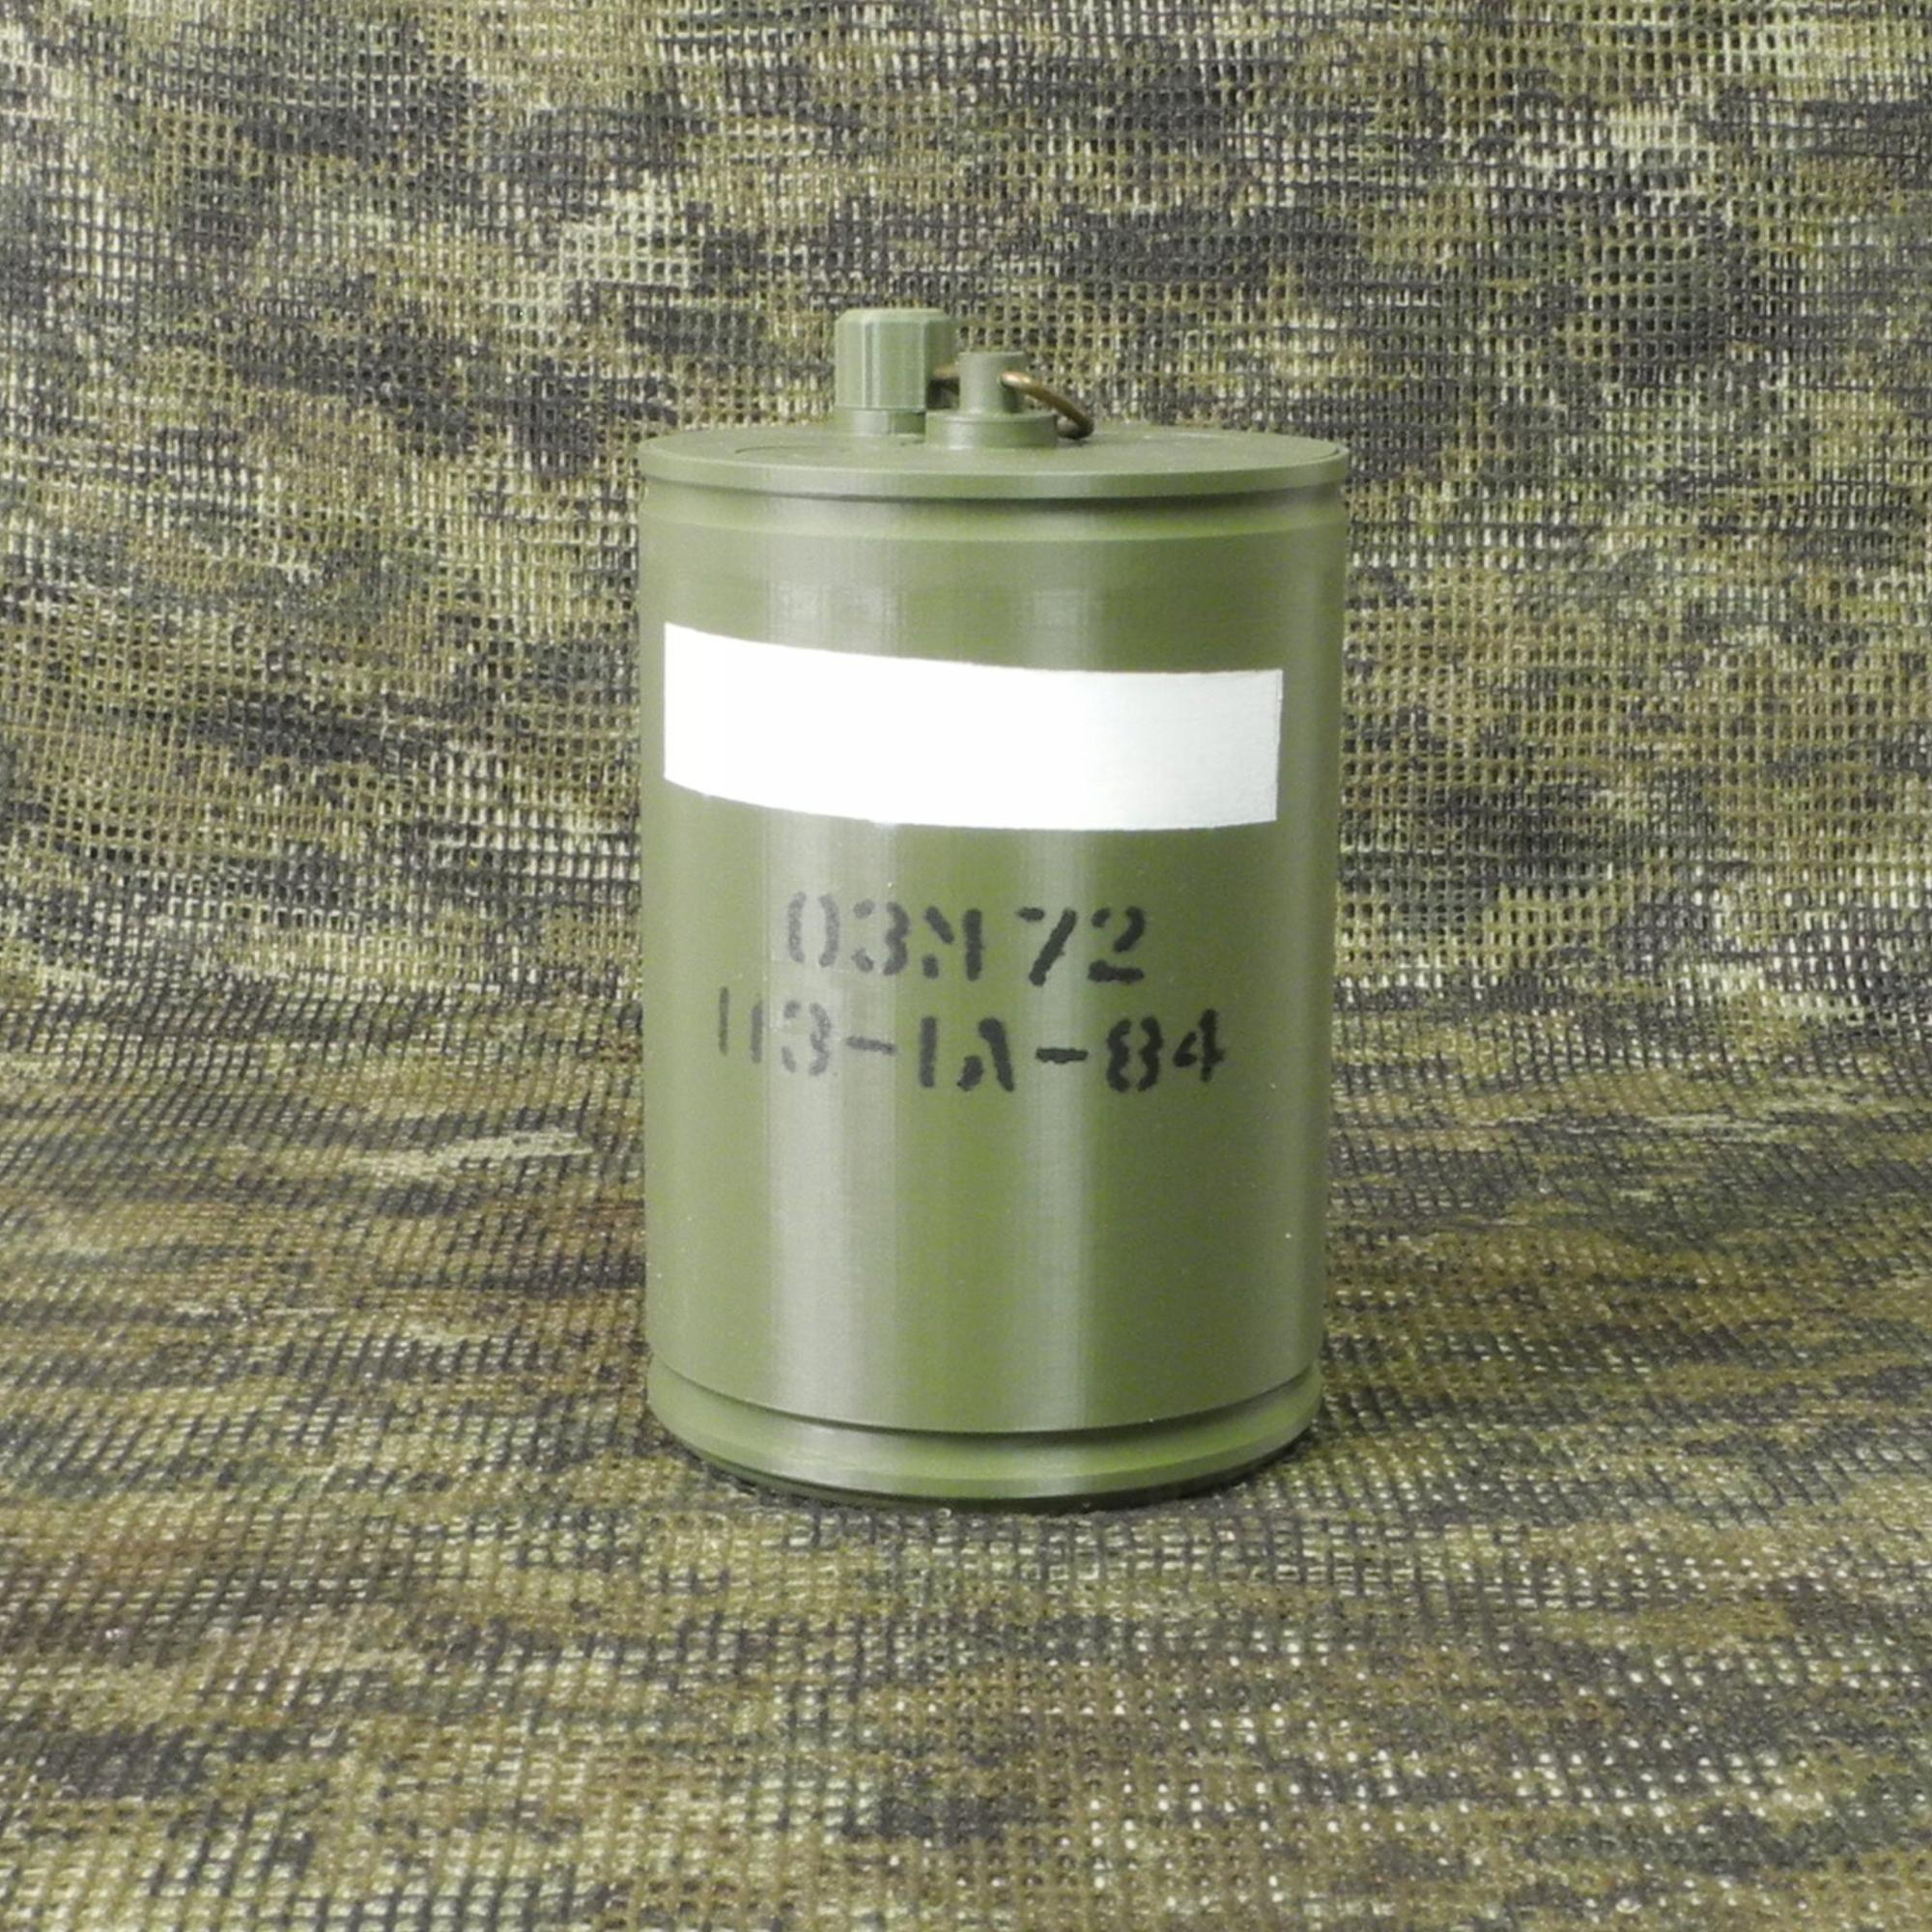OZM 72: (626, 306, 1338, 1513)
